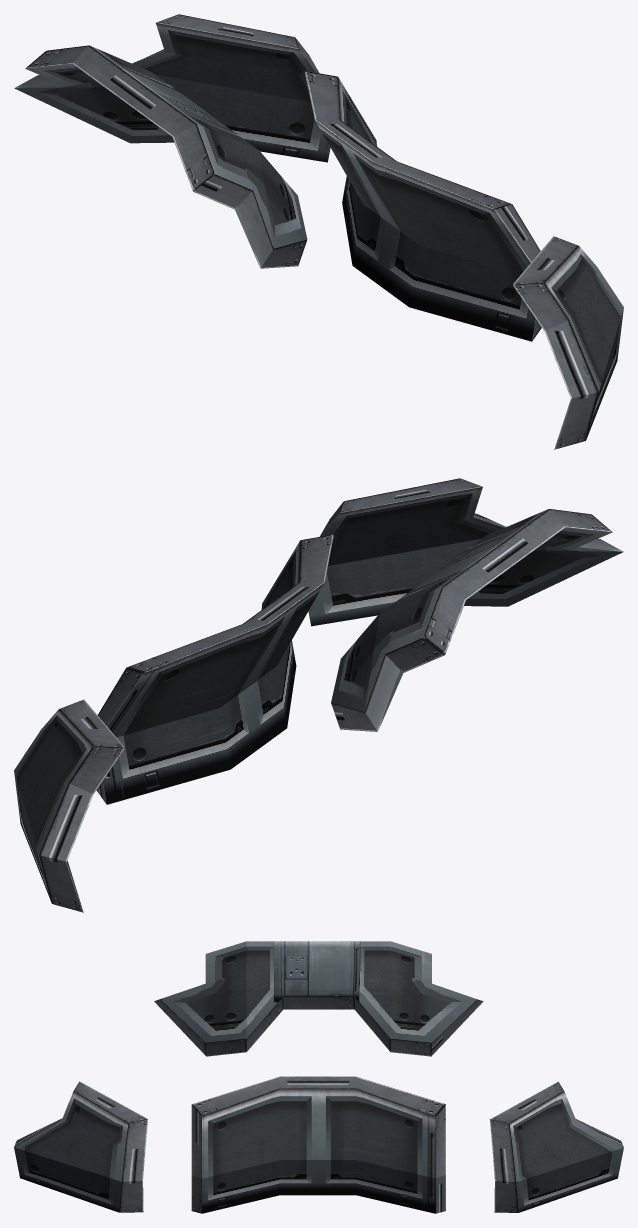
Rendered from constructor_unit_hardened.obj.
3 views of the same model, one above another, from view 1: azimuth 30°, elevation 25°; view 2: azimuth 150°, elevation 25°; view 3: azimuth 270°, elevation 25° (orthographic). The views are drawn at different scales.
Parts seen in each view (by area): view 1: polySurface8; view 2: polySurface8; view 3: polySurface8.
Boxes of the visible parts, x1,y1,x2,y2 form: polySurface8: (14, 14, 623, 449); polySurface8: (14, 478, 623, 912); polySurface8: (14, 941, 623, 1213).
Size of the model in its own units: 15 by 10.1 by 32.13.
1 material, 1 textured.
